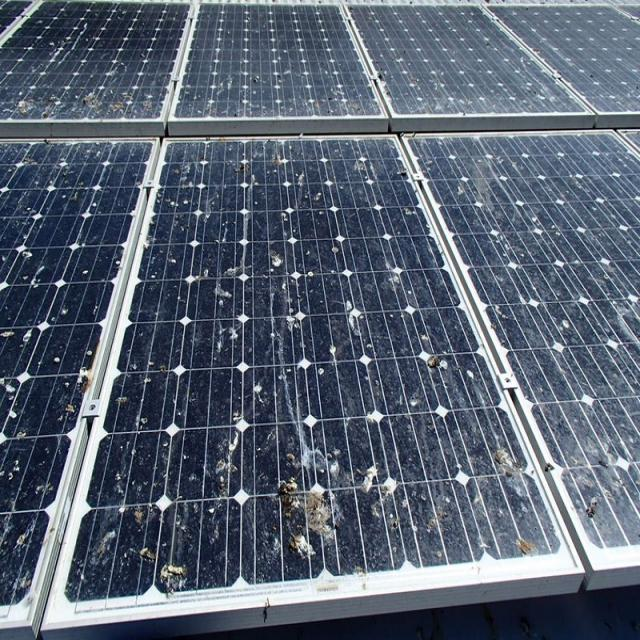Bird-drop: (265, 467, 354, 572), (137, 542, 190, 596), (466, 148, 503, 208), (80, 90, 136, 114), (13, 94, 66, 119), (489, 441, 521, 482), (573, 481, 604, 521), (419, 343, 450, 377), (224, 154, 262, 180), (514, 529, 540, 561), (394, 163, 411, 187), (68, 185, 82, 205), (142, 96, 155, 114), (526, 84, 541, 98), (60, 164, 70, 181), (85, 345, 95, 361), (376, 71, 389, 81), (587, 70, 597, 82), (23, 154, 35, 164), (52, 353, 62, 365), (82, 266, 90, 280), (60, 306, 70, 316), (326, 93, 336, 102), (251, 76, 259, 86), (63, 381, 71, 391), (634, 82, 640, 92), (484, 41, 491, 48), (403, 49, 407, 56)
